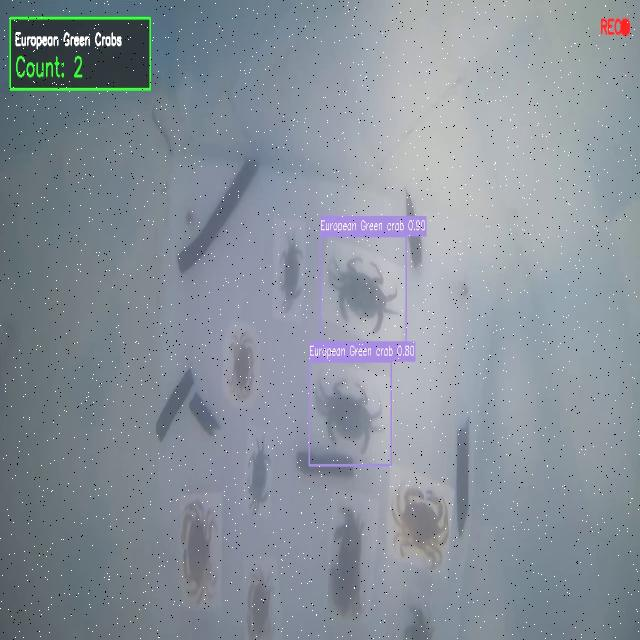European_Green_Crab: (316, 249, 403, 346), (310, 368, 383, 459), (278, 233, 304, 318), (246, 443, 271, 511)
